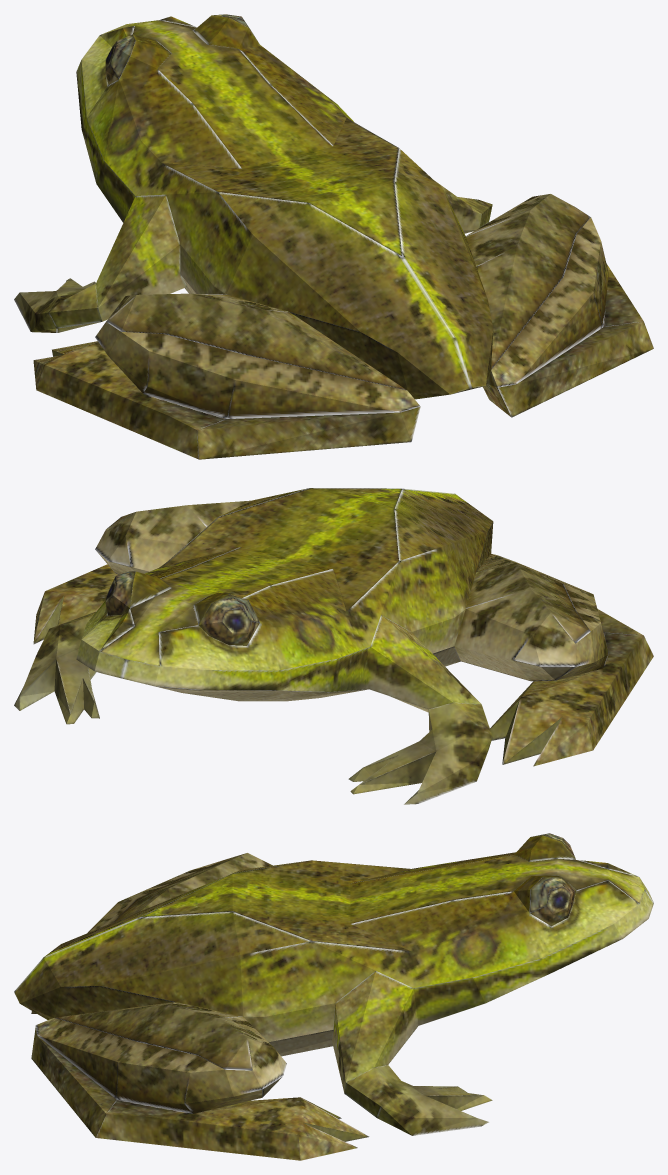
File: frog.glb
3 views of the same model, one above another, from view 1: azimuth 30°, elevation 25°; view 2: azimuth 150°, elevation 25°; view 3: azimuth 270°, elevation 25° (orthographic). The views are drawn at different scales.
Parts seen in each view (by area): view 1: Mesh; view 2: Mesh; view 3: Mesh.
Boxes of the visible parts, box(x1,y1,x2,y2) form: Mesh: box(14, 14, 653, 459); Mesh: box(14, 488, 653, 804); Mesh: box(14, 833, 653, 1160).
Bounding box in the file's own units: 15.31 × 5.16 × 16.64.
Materials: 1 (1 with a texture image).
